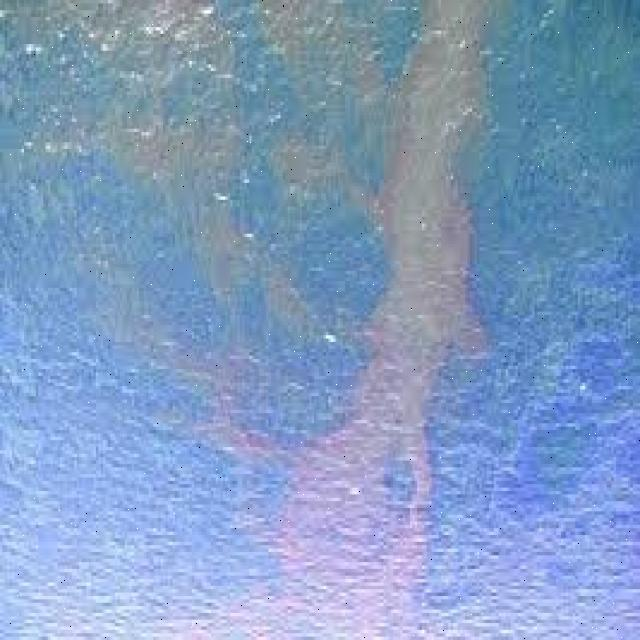sheen: (283, 2, 489, 637)
